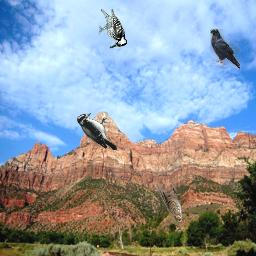Crow: (210, 29, 240, 69)
Sparrow: (156, 183, 184, 223)
Woodpecker: (77, 113, 117, 150), (99, 9, 127, 49)
